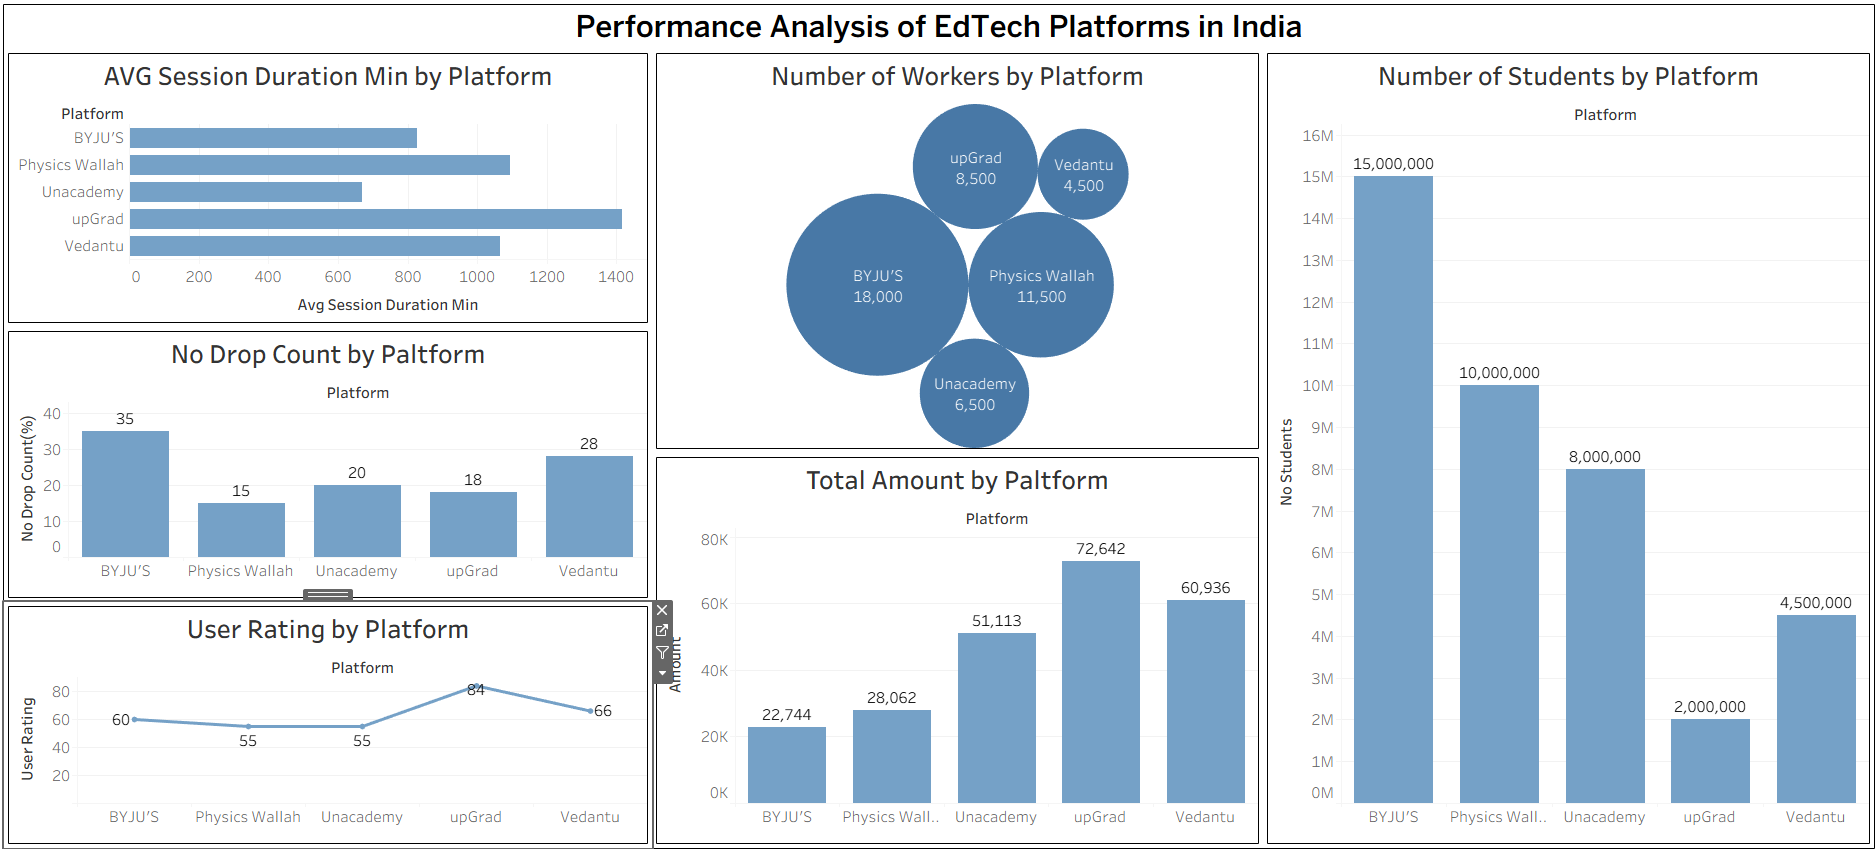

This screenshot's page, from the dashboard's own definition file:
{"tool":"tableau","page":{"name":"Descriptive Analysis Dashboard","canvas":[1000,1000],"units":"permille","ordinal":1},"visuals":[{"type":"title","box":[4.8,10.5,990.5,51.1]},{"type":"worksheet","title":"AVG Session Duration Min by Platform","mark":"Automatic","rows":["platform"],"cols":["avg_session_duration_min"],"box":[4.8,61.6,343.4,322.9]},{"type":"worksheet","title":"Number of Workers by Platform","mark":"Circle","box":[348.2,61.6,323.5,469.2]},{"type":"worksheet","title":"Number of Students by Platform","mark":"Automatic","rows":["no_students"],"cols":["platform"],"box":[671.7,61.6,323.5,928]},{"type":"worksheet","title":"No Drop Count by Paltform","mark":"Automatic","rows":["no_drop_count(%)"],"cols":["platform"],"box":[4.8,384.4,343.4,319]},{"type":"worksheet","title":"Total Amount by Paltform","mark":"Automatic","rows":["amount"],"cols":["platform"],"box":[348.2,530.8,323.5,458.8]},{"type":"worksheet","title":"User Rating by Platform","mark":"Line","rows":["user_rating"],"cols":["platform"],"box":[4.8,703.4,343.4,286.2]}]}

Visuals, with their boxes on the dashboard's canvas, which has no fixed pixel size, in thousandths of its width and height (x1, y1, x2, y2). These are canvas units, not pixel positions in the 1875x849 screenshot, which may show the page scaled, cropped or inside an application window:
title: [x1=5, y1=10, x2=995, y2=62]
"AVG Session Duration Min by Platform" worksheet: [x1=5, y1=62, x2=348, y2=384]
"Number of Workers by Platform" worksheet (Circle marks): [x1=348, y1=62, x2=672, y2=531]
"Number of Students by Platform" worksheet: [x1=672, y1=62, x2=995, y2=990]
"No Drop Count by Paltform" worksheet: [x1=5, y1=384, x2=348, y2=703]
"Total Amount by Paltform" worksheet: [x1=348, y1=531, x2=672, y2=990]
"User Rating by Platform" worksheet (Line marks): [x1=5, y1=703, x2=348, y2=990]
